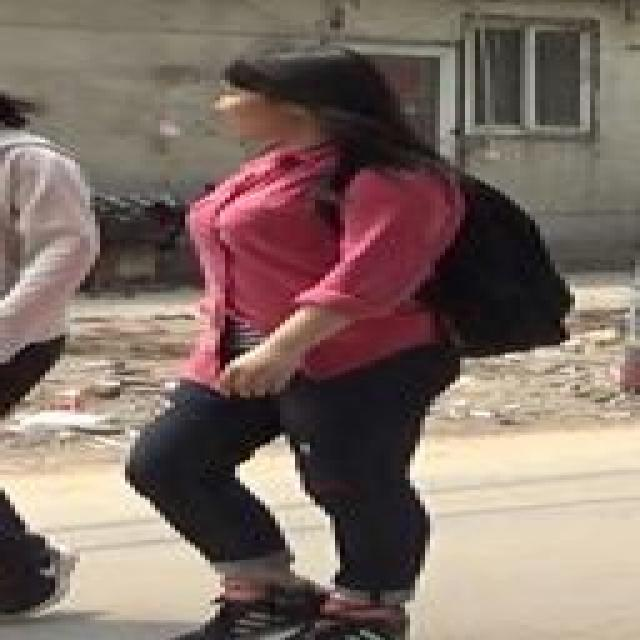adult: (152, 44, 522, 640)
